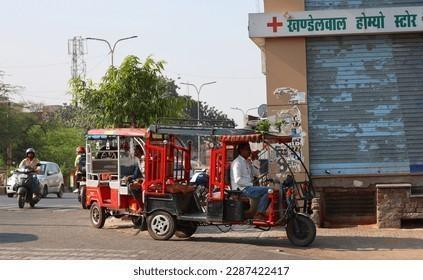keke: (77, 128, 150, 243)
